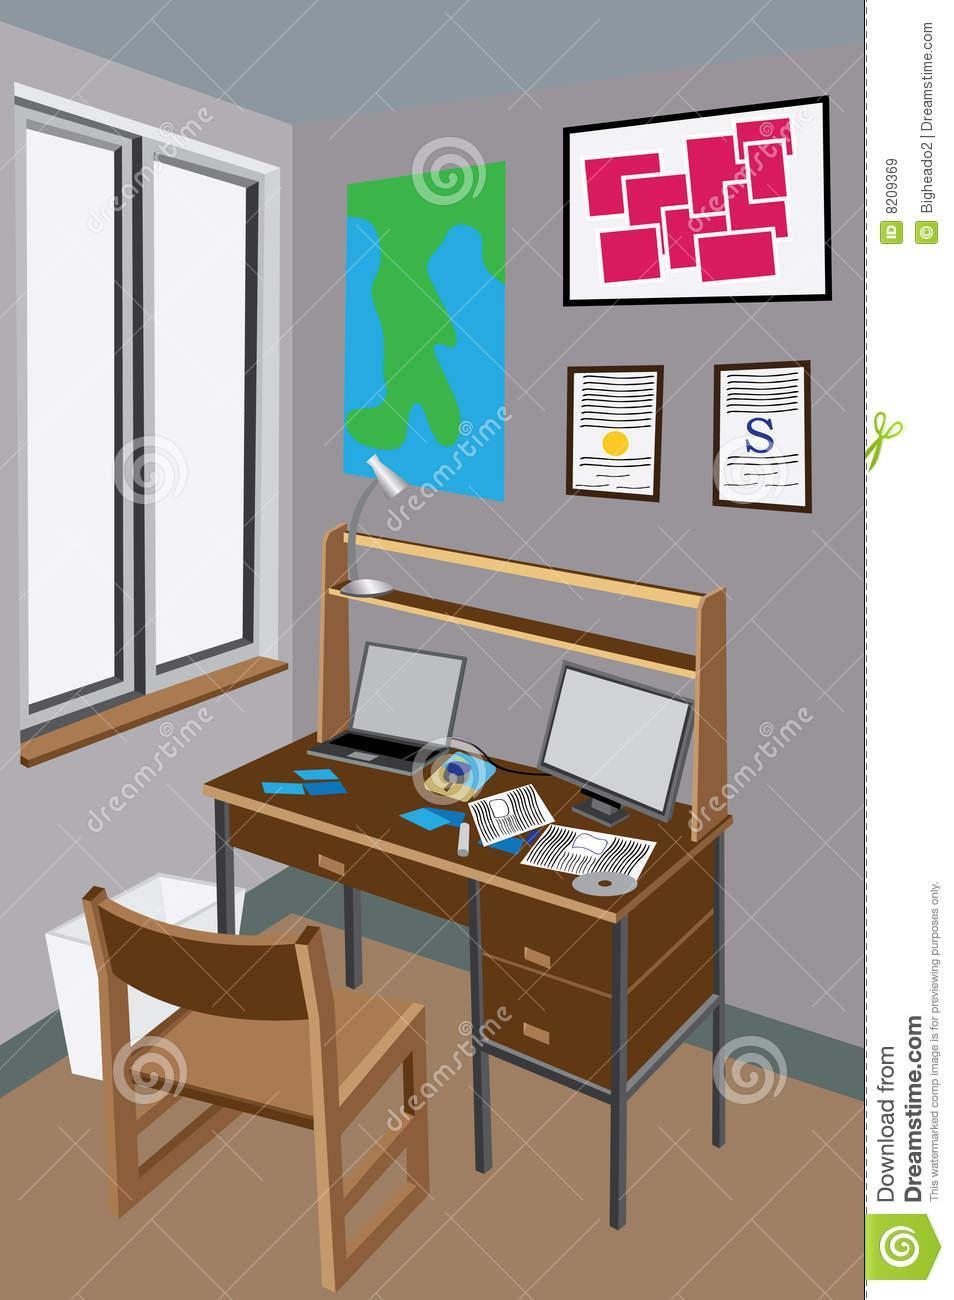chair: (70, 887, 437, 1290)
tvmonitor: (544, 659, 703, 833), (311, 640, 466, 790)
